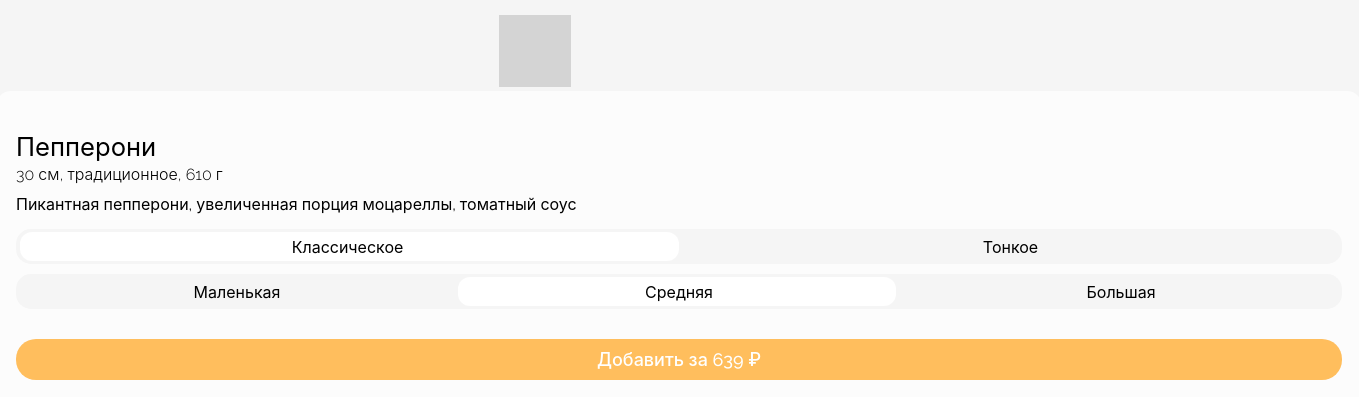
ProductPage component › renders product correctly
expect the heading "30 см, традиционное, 610 г" is shown: met, box [16,165,223,184]
Click the button "Тонкое".
click(1010, 247)  # box [679,229,1342,265]
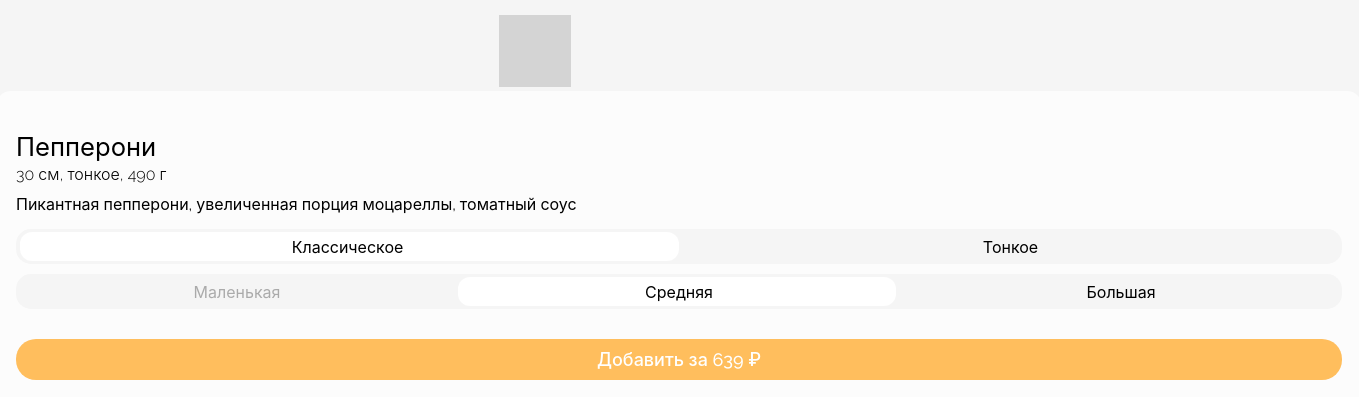
expect the heading "30 см, тонкое, 490 г" is shown: met, box [16,165,166,184]
